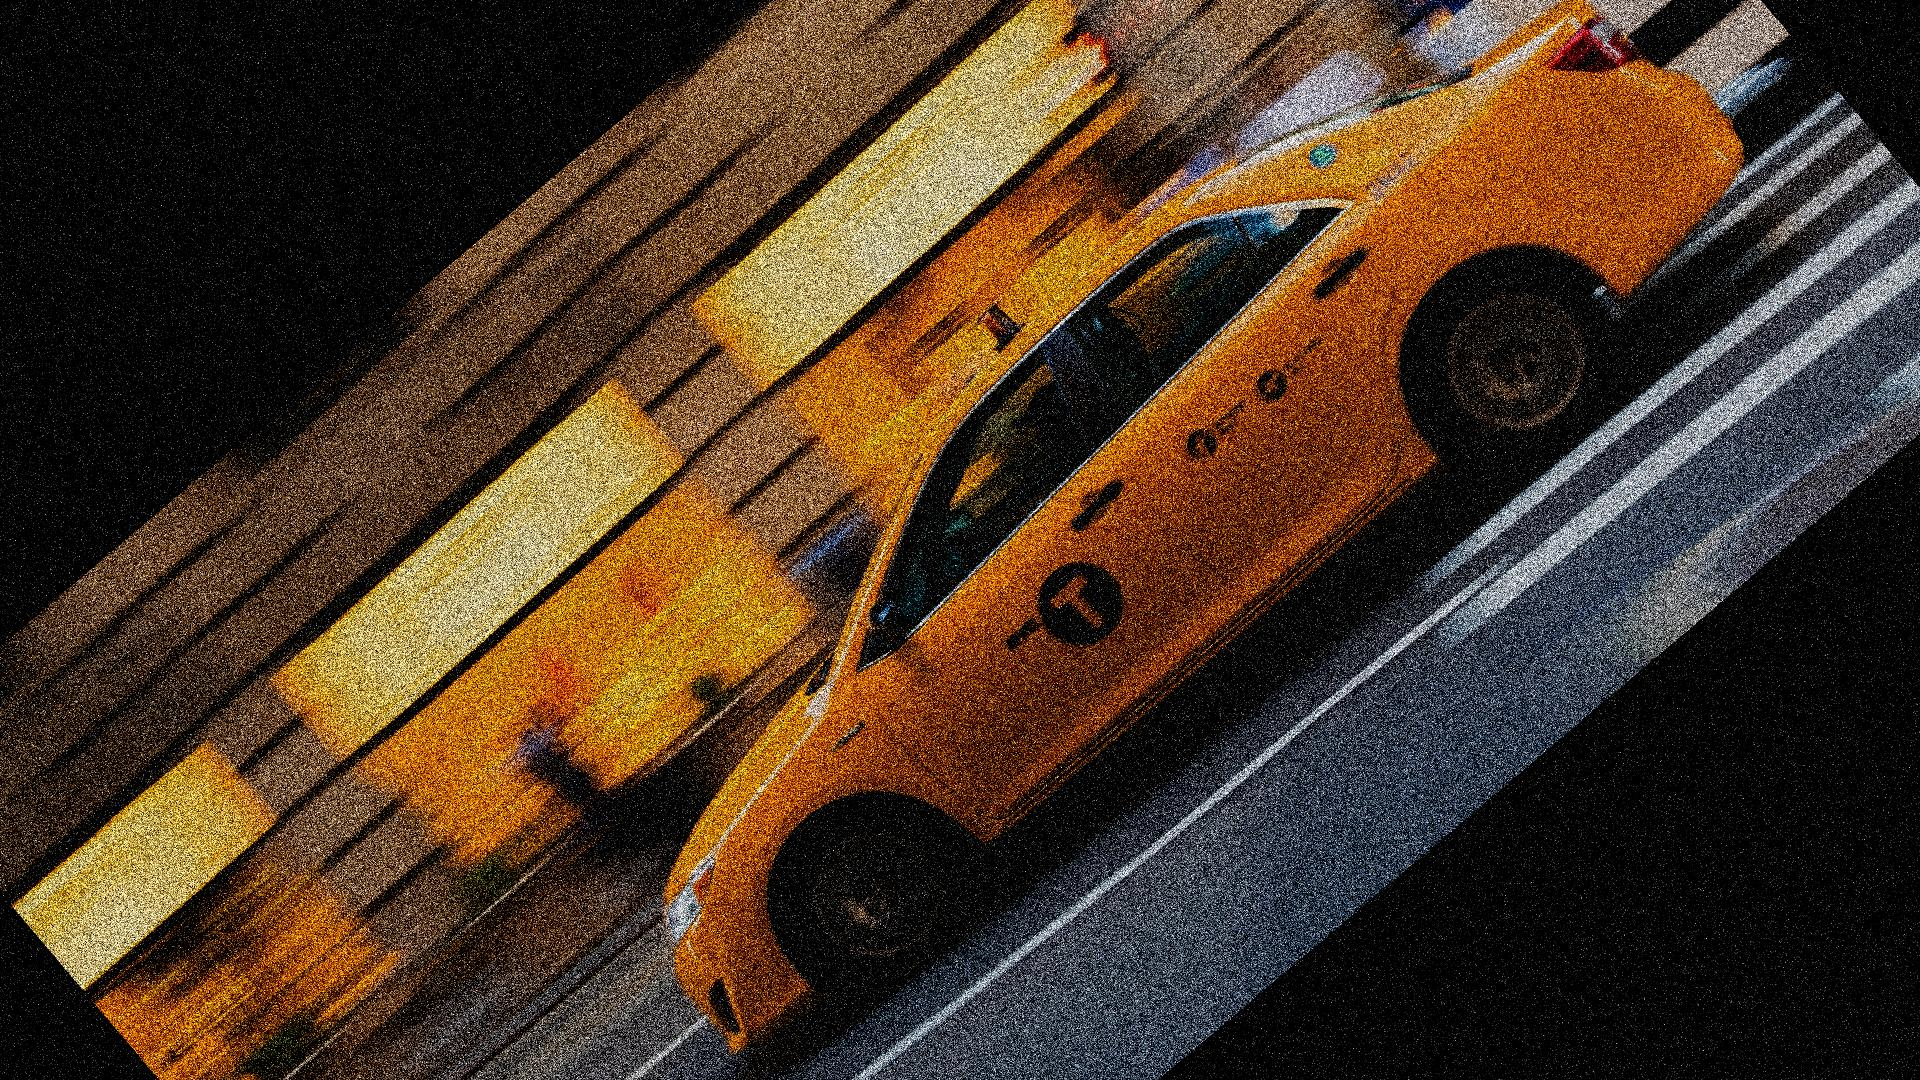taxi: (665, 59, 1720, 1050)
